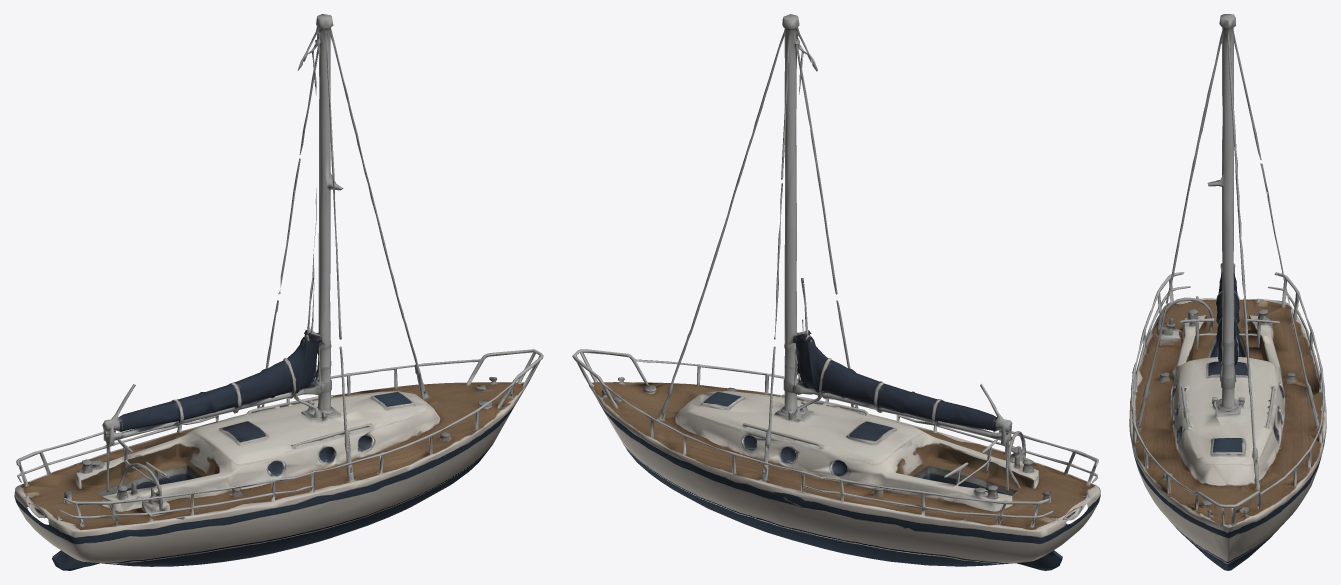
Rendered from boat-sail.glb.
3 views of the same model, side by side, from view 1: azimuth 30°, elevation 25°; view 2: azimuth 150°, elevation 25°; view 3: azimuth 270°, elevation 25° (orthographic).
Parts seen in each view (by area): view 1: tripo_node_45134a80-7c0b-4846-bf9e-bc1bdd2727f2; view 2: tripo_node_45134a80-7c0b-4846-bf9e-bc1bdd2727f2; view 3: tripo_node_45134a80-7c0b-4846-bf9e-bc1bdd2727f2.
Part boxes in pixels (x1=…): tripo_node_45134a80-7c0b-4846-bf9e-bc1bdd2727f2: x1=14, y1=14, x2=543, y2=570; tripo_node_45134a80-7c0b-4846-bf9e-bc1bdd2727f2: x1=572, y1=14, x2=1100, y2=570; tripo_node_45134a80-7c0b-4846-bf9e-bc1bdd2727f2: x1=1129, y1=14, x2=1326, y2=570.
Bounding box in the file's own units: 0.9998 × 0.9606 × 0.3426.
1 material, 1 textured.
